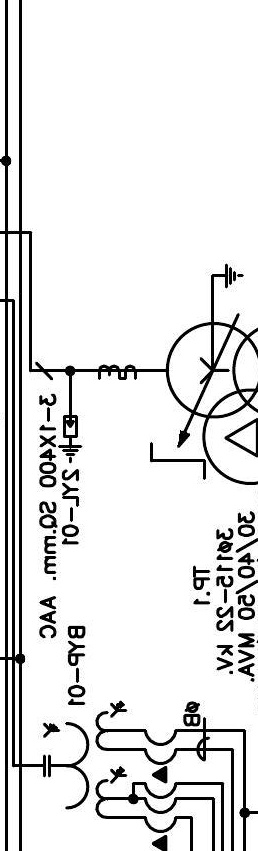115_cvt_3p: (43, 700, 128, 820)
115_la: (57, 415, 83, 464)
